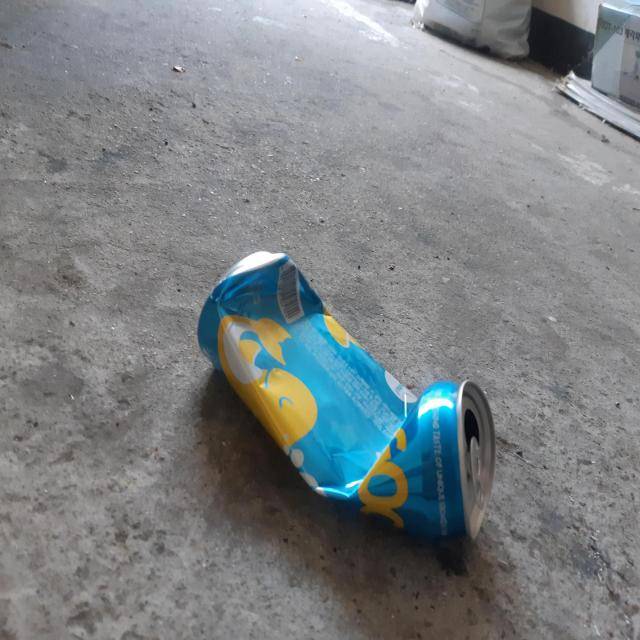can: (198, 251, 496, 539)
